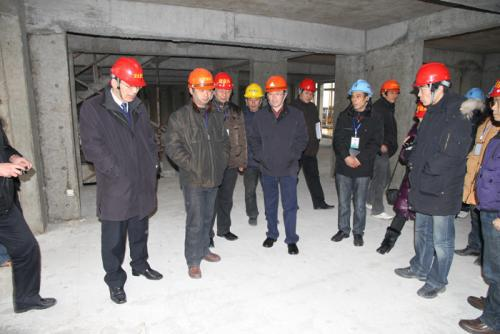helmet: (107, 57, 147, 104), (415, 62, 452, 106), (263, 72, 291, 109), (188, 66, 214, 104), (346, 78, 374, 111), (295, 76, 320, 106), (215, 73, 236, 105), (244, 81, 265, 113), (381, 76, 403, 105)
